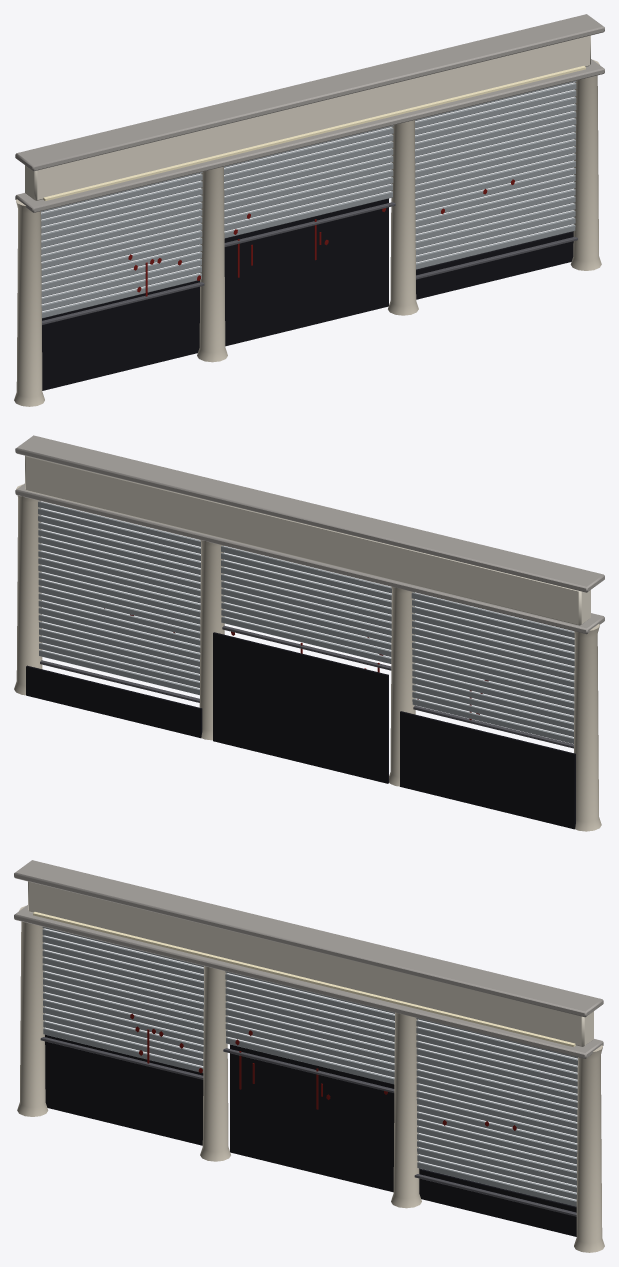
The model's file is storefront.glb.
The picture shows the model from 3 angles, top to bottom: view 1: azimuth 30°, elevation 25°; view 2: azimuth 150°, elevation 25°; view 3: azimuth 330°, elevation 25°; orthographic projection.
Parts seen in each view (by area): view 1: storefront; view 2: storefront; view 3: storefront.
Part boxes in pixels (left/top/right/bottom): storefront: left=14, top=14, right=604, bottom=406; storefront: left=14, top=435, right=604, bottom=831; storefront: left=14, top=860, right=604, bottom=1252.
Size of the model in its own units: 14.68 by 5.87 by 0.84.
